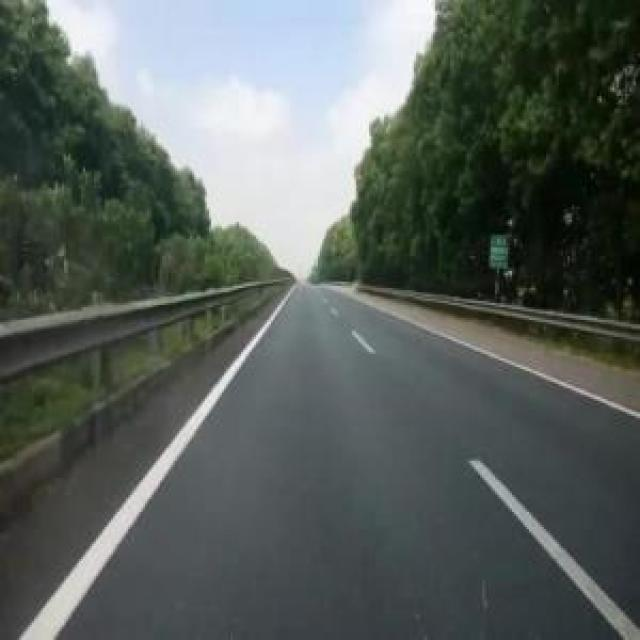clear-road: (0, 285, 640, 640)
